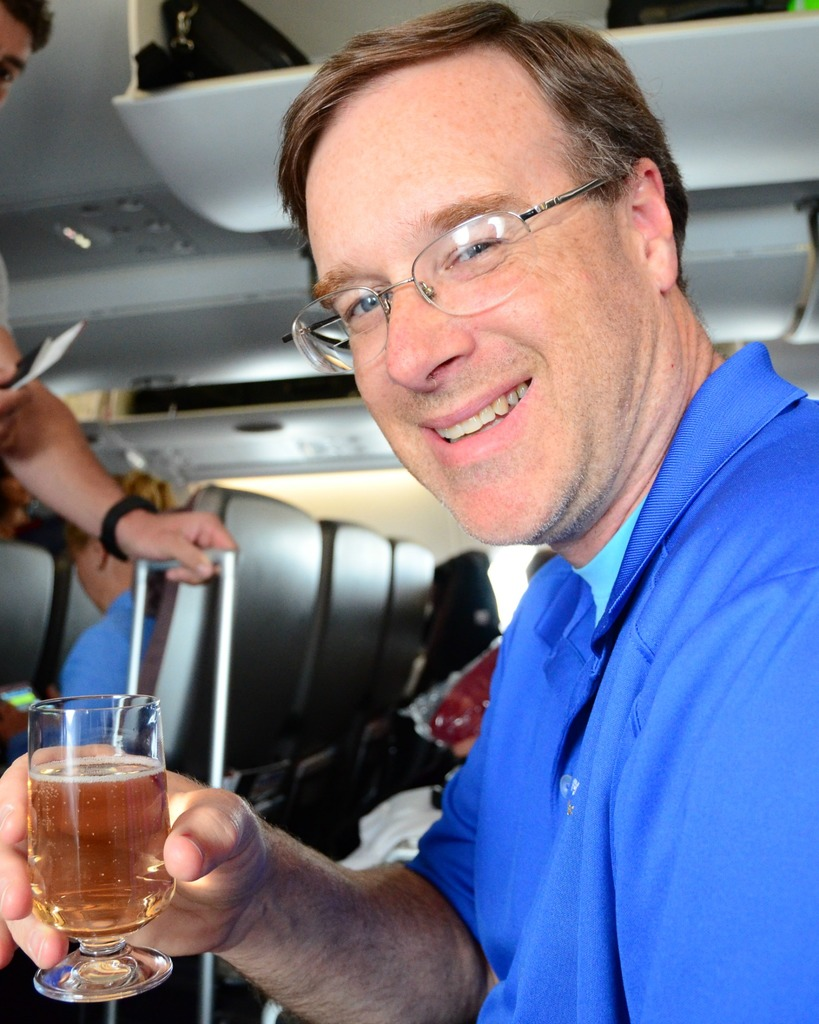Beer: (7, 684, 193, 1023)
